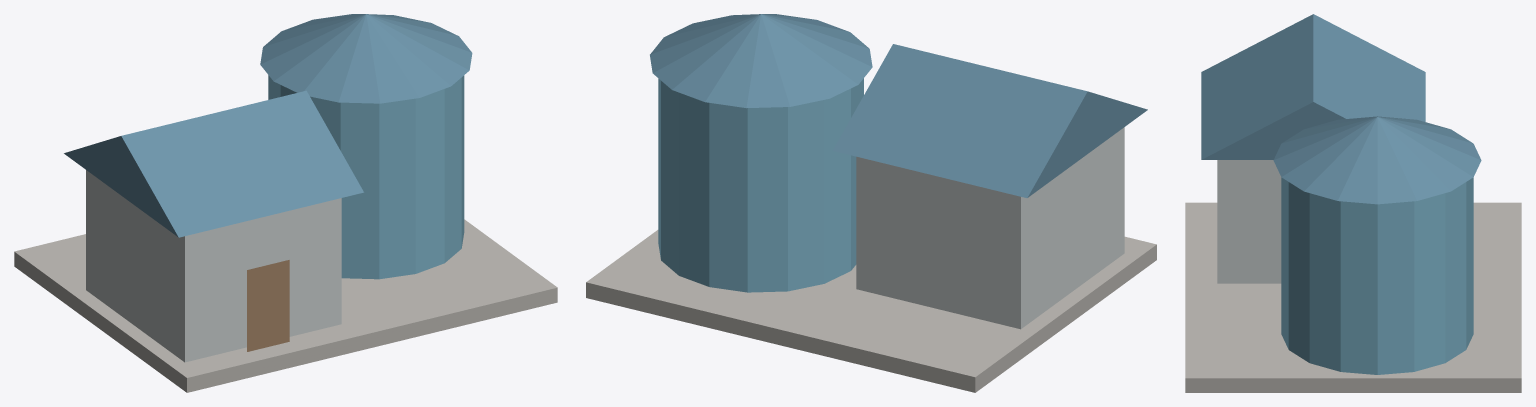
File: water_pump.glb
3 renders of one model, left to right at view 1: azimuth 30°, elevation 25°; view 2: azimuth 150°, elevation 25°; view 3: azimuth 270°, elevation 25°, orthographic. The views are drawn at different scales.
Parts seen in each view (by area): view 1: water_pump; view 2: water_pump; view 3: water_pump.
Part boxes in pixels (<box>): water_pump: <box>14,14,557,392</box>; water_pump: <box>586,14,1156,392</box>; water_pump: <box>1185,14,1521,392</box>.
Bounding box in the file's own units: 0.52 × 0.32 × 0.42.
